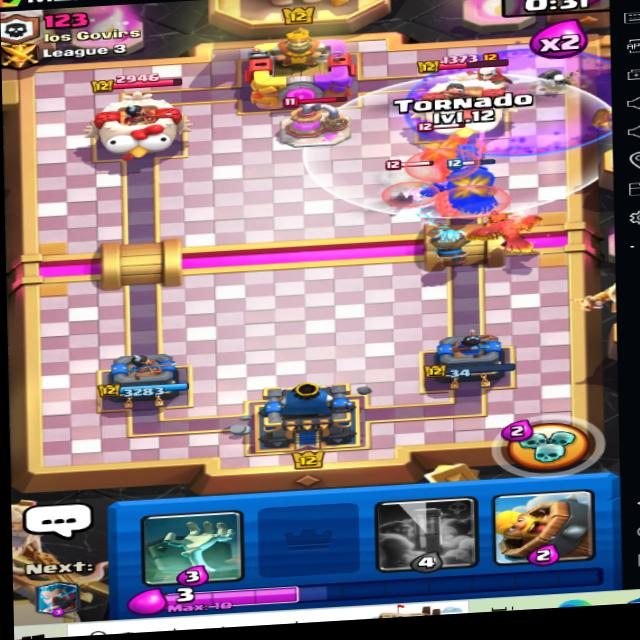bandit: (357, 159, 430, 215)
elixir-collector: (261, 91, 357, 150)
magic-archer: (465, 59, 517, 106)
skeleton-king: (408, 135, 473, 187)
